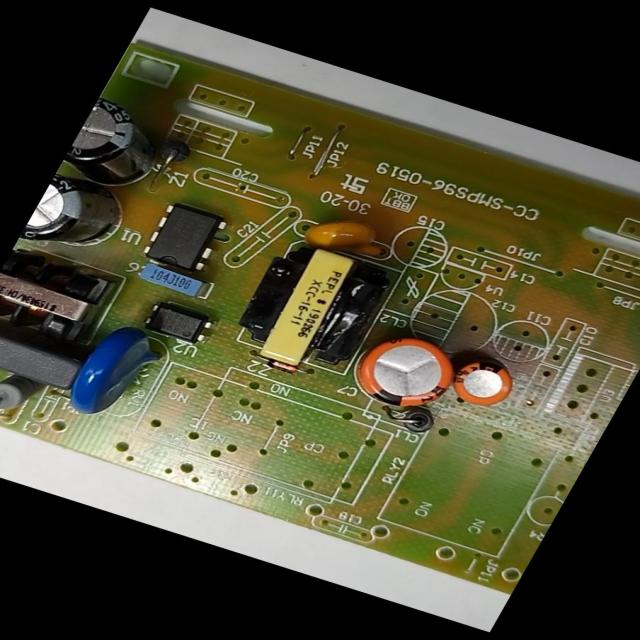Cap1: (338, 322, 471, 420)
Cap2: (437, 350, 528, 417)
Cap3: (16, 166, 140, 267)
Cap4: (56, 95, 182, 199)
MOSFET: (130, 196, 237, 280)
Mov: (46, 314, 180, 433)
Resistor: (0, 363, 52, 425)
Transformer: (216, 230, 408, 386), (0, 240, 132, 356)
